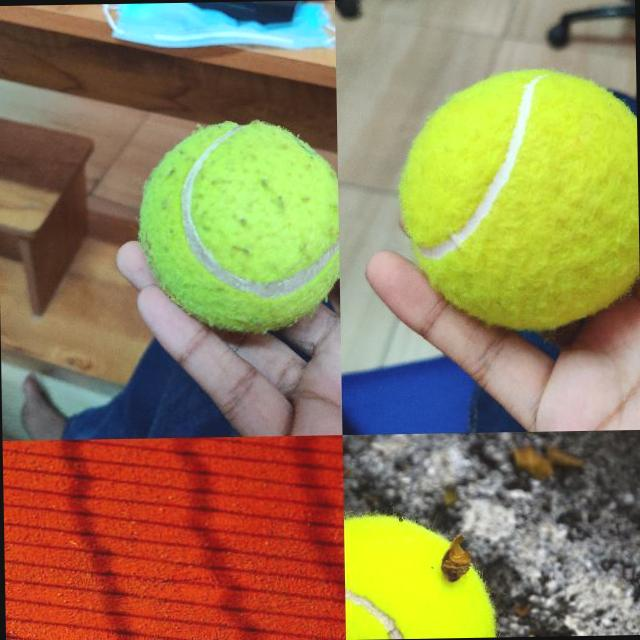Tennis Ball: (400, 66, 640, 328), (134, 120, 340, 336), (344, 512, 498, 639)
